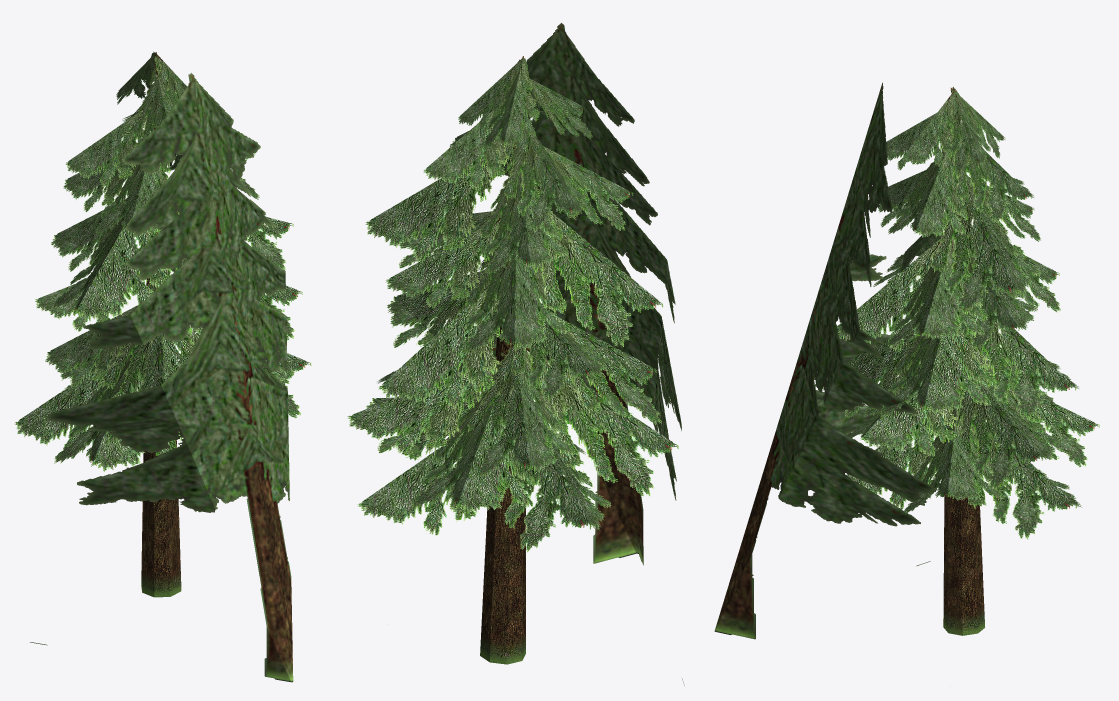
Rendered from Tree.FBX.
3 views of the same model, side by side, from view 1: azimuth 30°, elevation 25°; view 2: azimuth 150°, elevation 25°; view 3: azimuth 270°, elevation 25° (orthographic). The views are drawn at different scales.
Parts seen in each view (by area): view 1: Imposter, Tree; view 2: Tree, Imposter; view 3: Tree, Imposter.
Part boxes in pixels (left/top/right/bottom): Imposter: left=30, top=73, right=293, bottom=682; Tree: left=15, top=51, right=311, bottom=597; Tree: left=347, top=56, right=678, bottom=664; Imposter: left=423, top=23, right=684, bottom=685; Tree: left=822, top=86, right=1099, bottom=635; Imposter: left=714, top=82, right=937, bottom=639.
Bounding box in the file's own units: 170 × 212 × 328.
2 materials, 2 textured.
